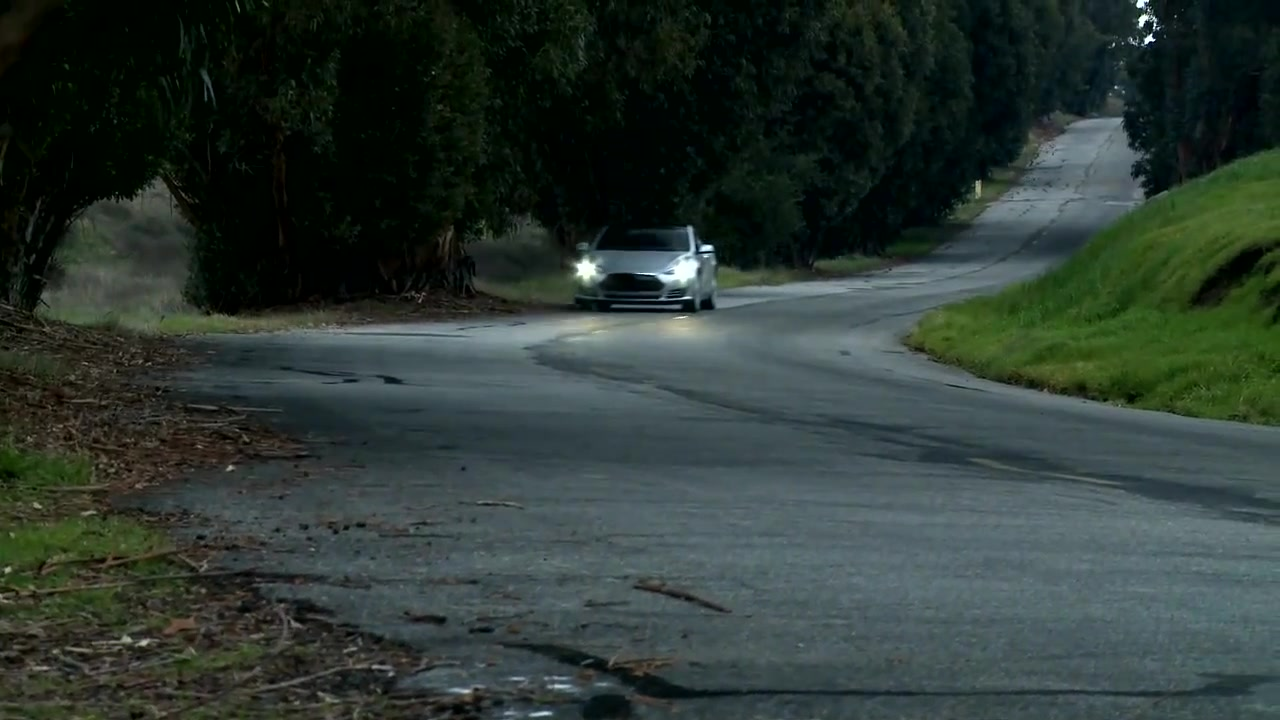car: (572, 219, 722, 315)
